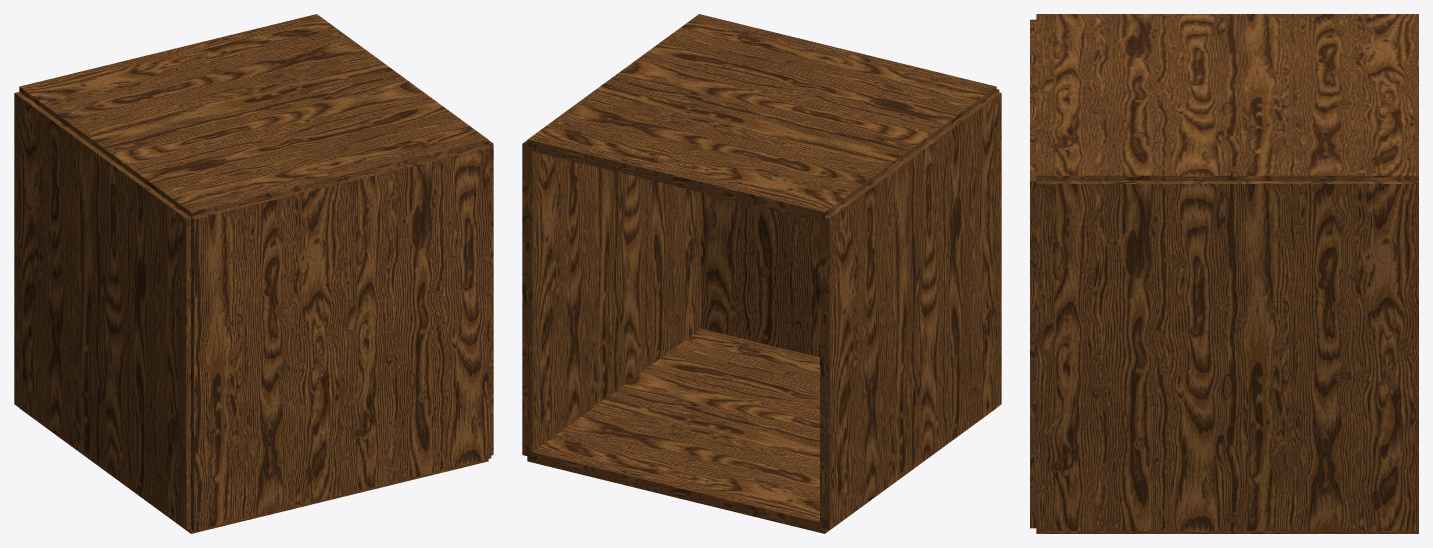
Rendered from Room.fbx.
3 views of the same model, side by side, from view 1: azimuth 30°, elevation 25°; view 2: azimuth 150°, elevation 25°; view 3: azimuth 270°, elevation 25° (orthographic). The views are drawn at different scales.
Parts seen in each view (by area): view 1: Room; view 2: Room; view 3: Room.
Part boxes in pixels (box(x1,y1,x2,y2)): Room: box(14, 14, 493, 533); Room: box(522, 14, 1001, 533); Room: box(1030, 14, 1418, 533).
Size of the model in its own units: 12.4 by 12.4 by 12.2.
1 material, 1 textured.
